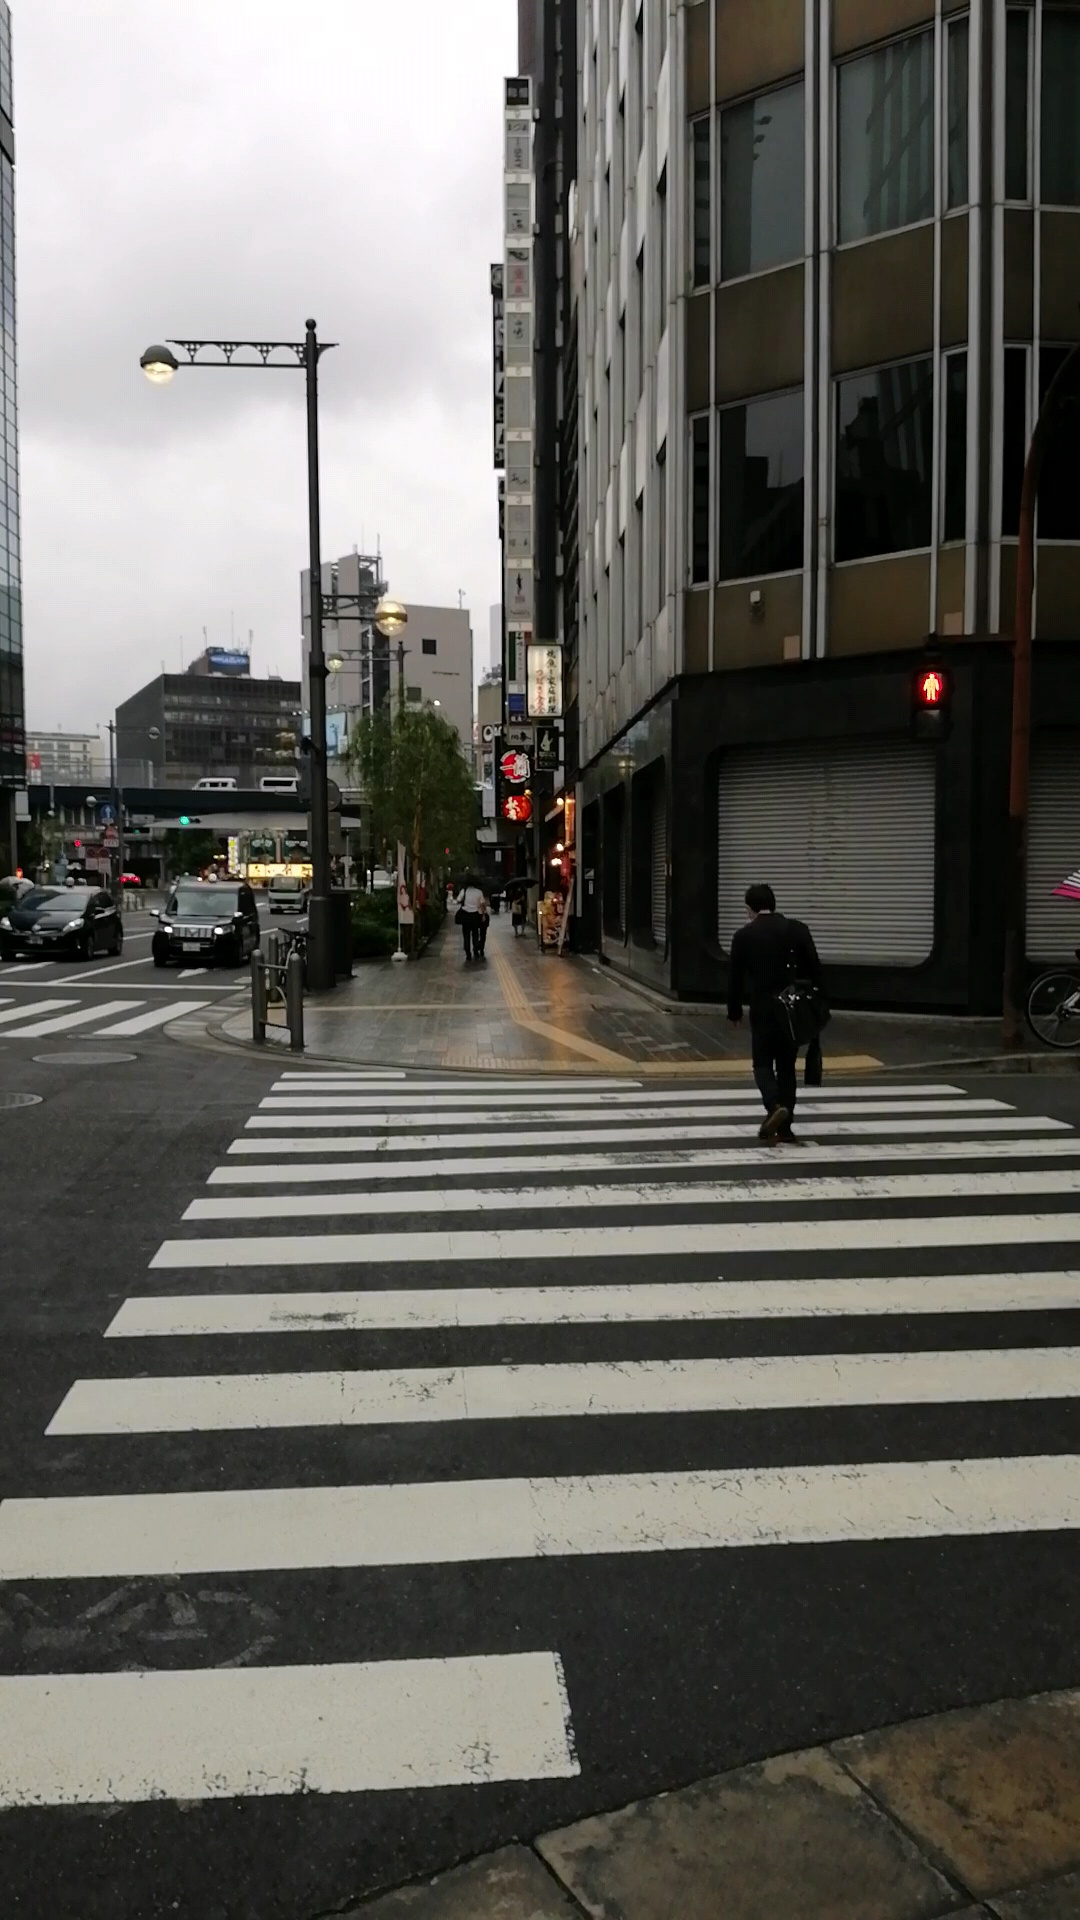red: (909, 666, 953, 750)
